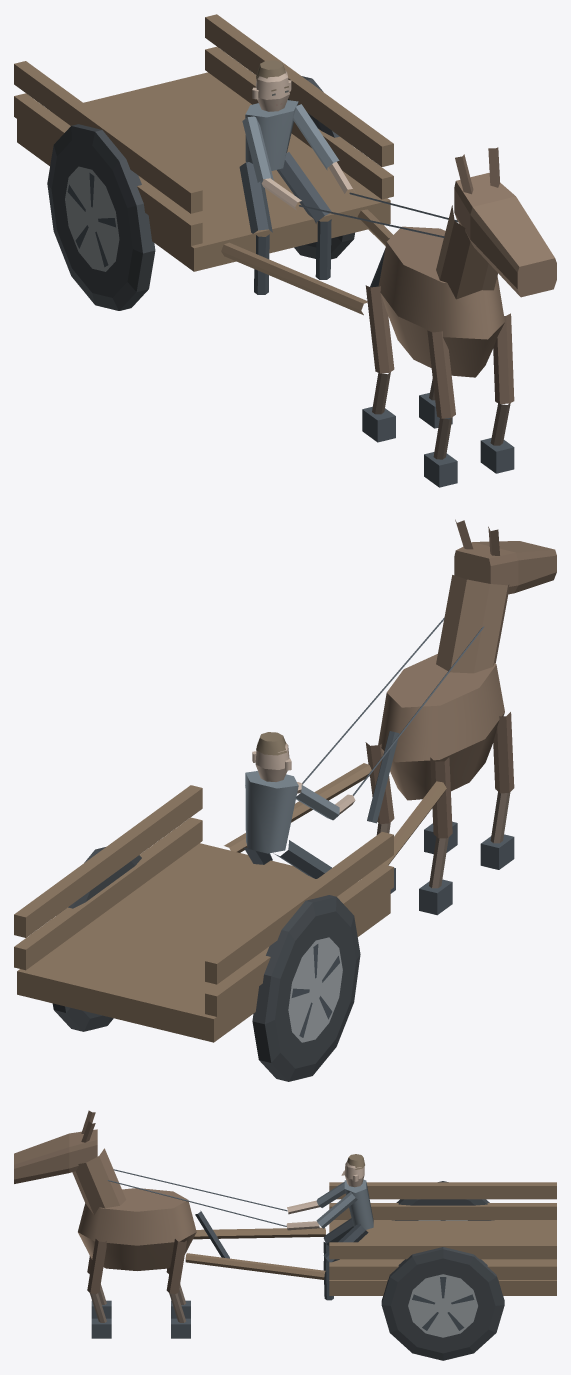
File: cart.glb
The picture shows the model from 3 angles, top to bottom: view 1: azimuth 30°, elevation 25°; view 2: azimuth 150°, elevation 25°; view 3: azimuth 270°, elevation 25°; orthographic projection. The views are drawn at different scales.
Parts seen in each view (by area): view 1: body; view 2: body; view 3: body.
Part boxes in pixels (bbox=[...]): body: bbox=[14, 14, 556, 487]; body: bbox=[14, 519, 556, 1081]; body: bbox=[14, 1110, 556, 1360].
Size of the model in its own units: 1.59 by 2.23 by 5.2.
